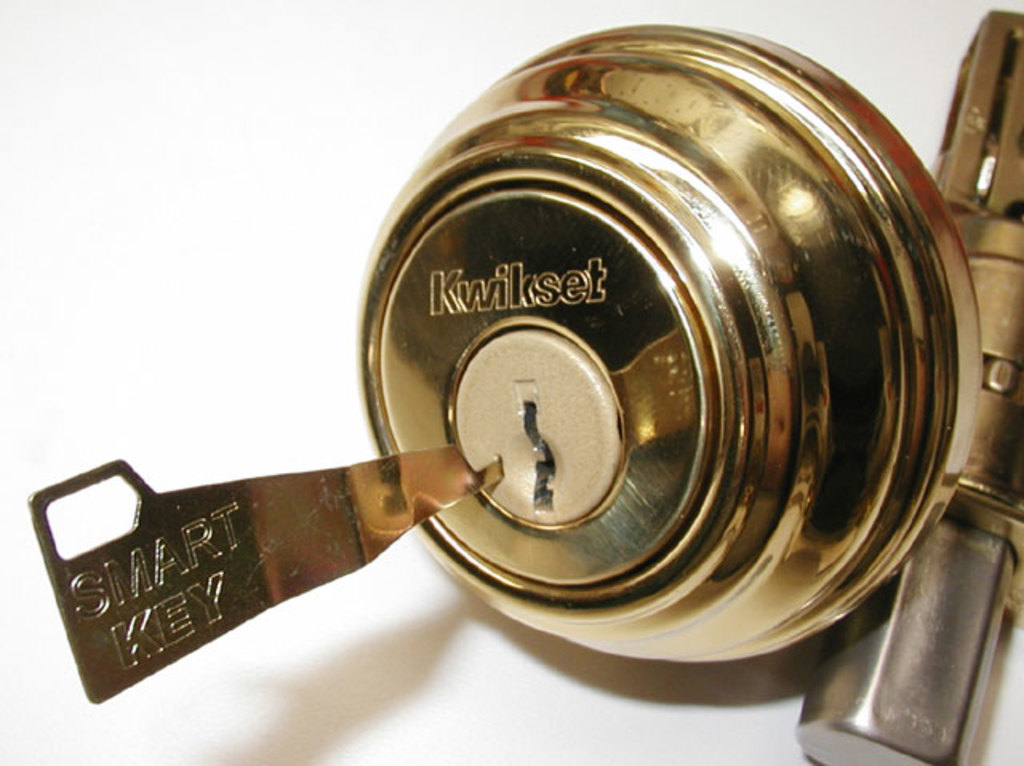handle: (263, 57, 1000, 648)
